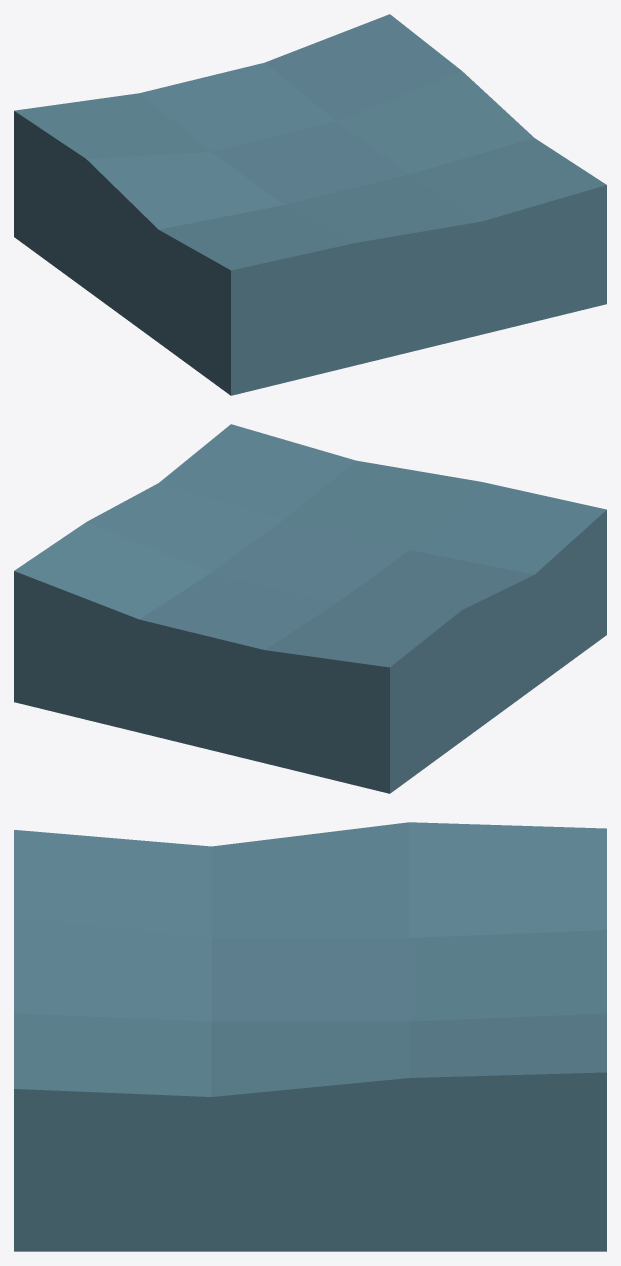
File: nature_terrain_04.fbx
3 views of the same model, one above another, from view 1: azimuth 30°, elevation 25°; view 2: azimuth 150°, elevation 25°; view 3: azimuth 270°, elevation 25° (orthographic). The views are drawn at different scales.
Visible parts, largest first — view 1: nature_sea_terrain; view 2: nature_sea_terrain; view 3: nature_sea_terrain.
Part boxes in pixels (<box>): nature_sea_terrain: <box>14,14,606,395</box>; nature_sea_terrain: <box>14,424,606,793</box>; nature_sea_terrain: <box>14,822,606,1251</box>.
Bounding box in the file's own units: 1968 × 656 × 1968.
